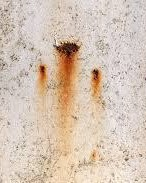Corrosion: (51, 41, 81, 156), (36, 63, 48, 100), (90, 66, 102, 97)
